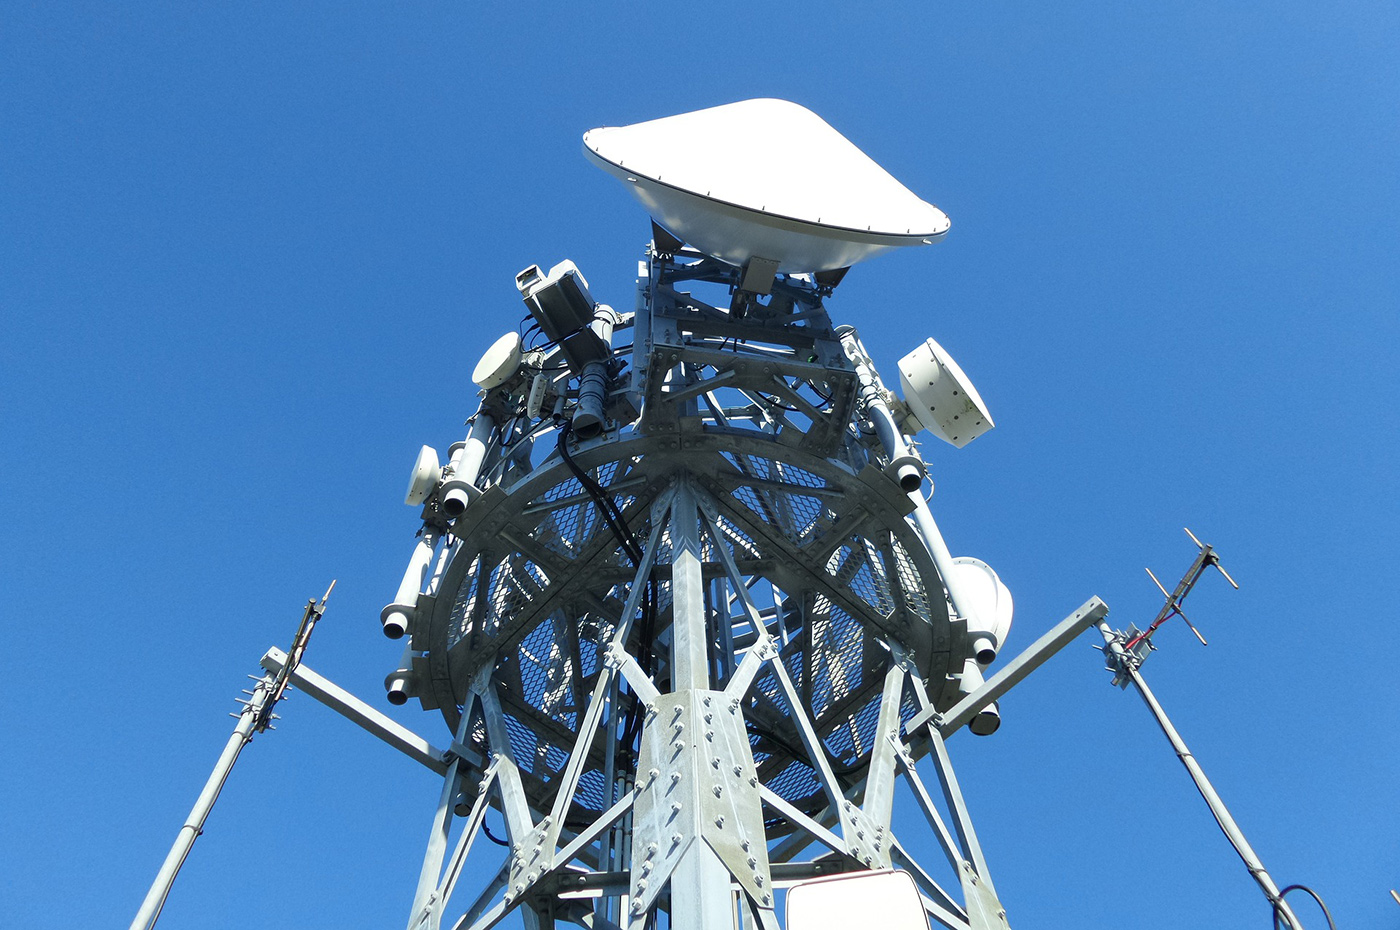b: (893, 337, 1010, 450), (470, 332, 531, 391), (396, 445, 443, 507)
